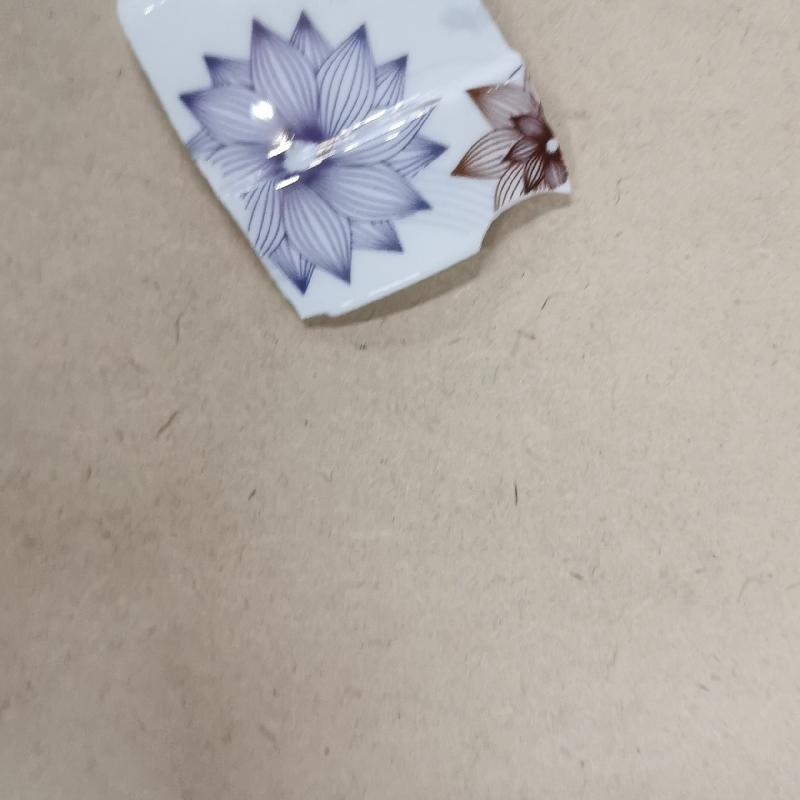ceram: (114, 0, 573, 326)
